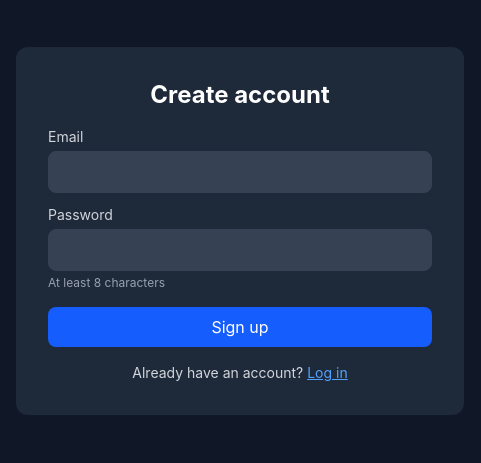
Test: a request that never reaches the server says so
Type "new@example.com" into the field labelled "Email". click: {"x": 240, "y": 172}
box: [48, 151, 432, 193]
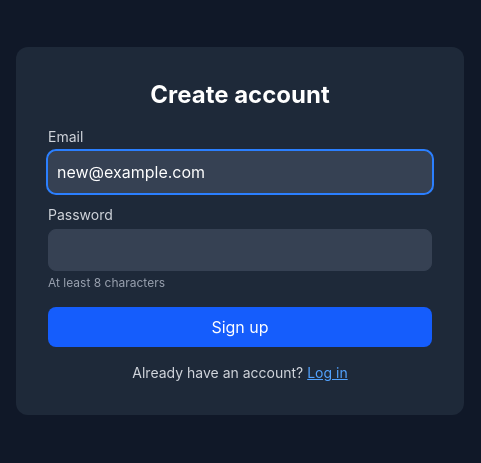
Type "password1" into the password field labelled "Password". click: {"x": 240, "y": 250}
box: [48, 229, 432, 271]
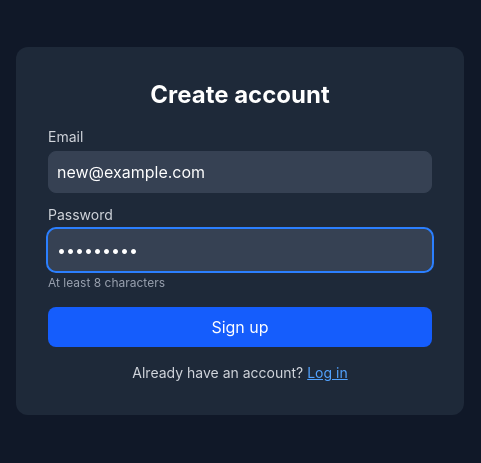
Click the button "Sign up". click: {"x": 240, "y": 327}
box: [48, 307, 432, 347]
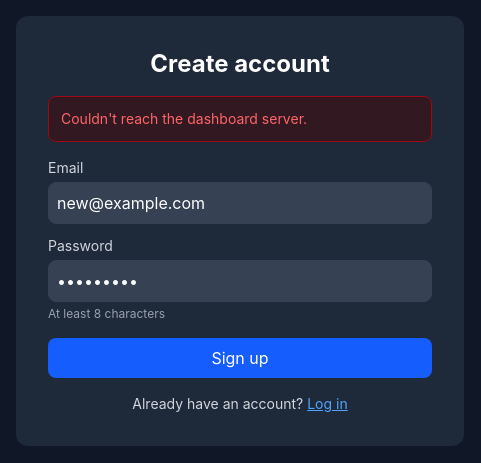
Result: the message reads "Couldn't reach the dashboard server." at [61, 110, 307, 127]
